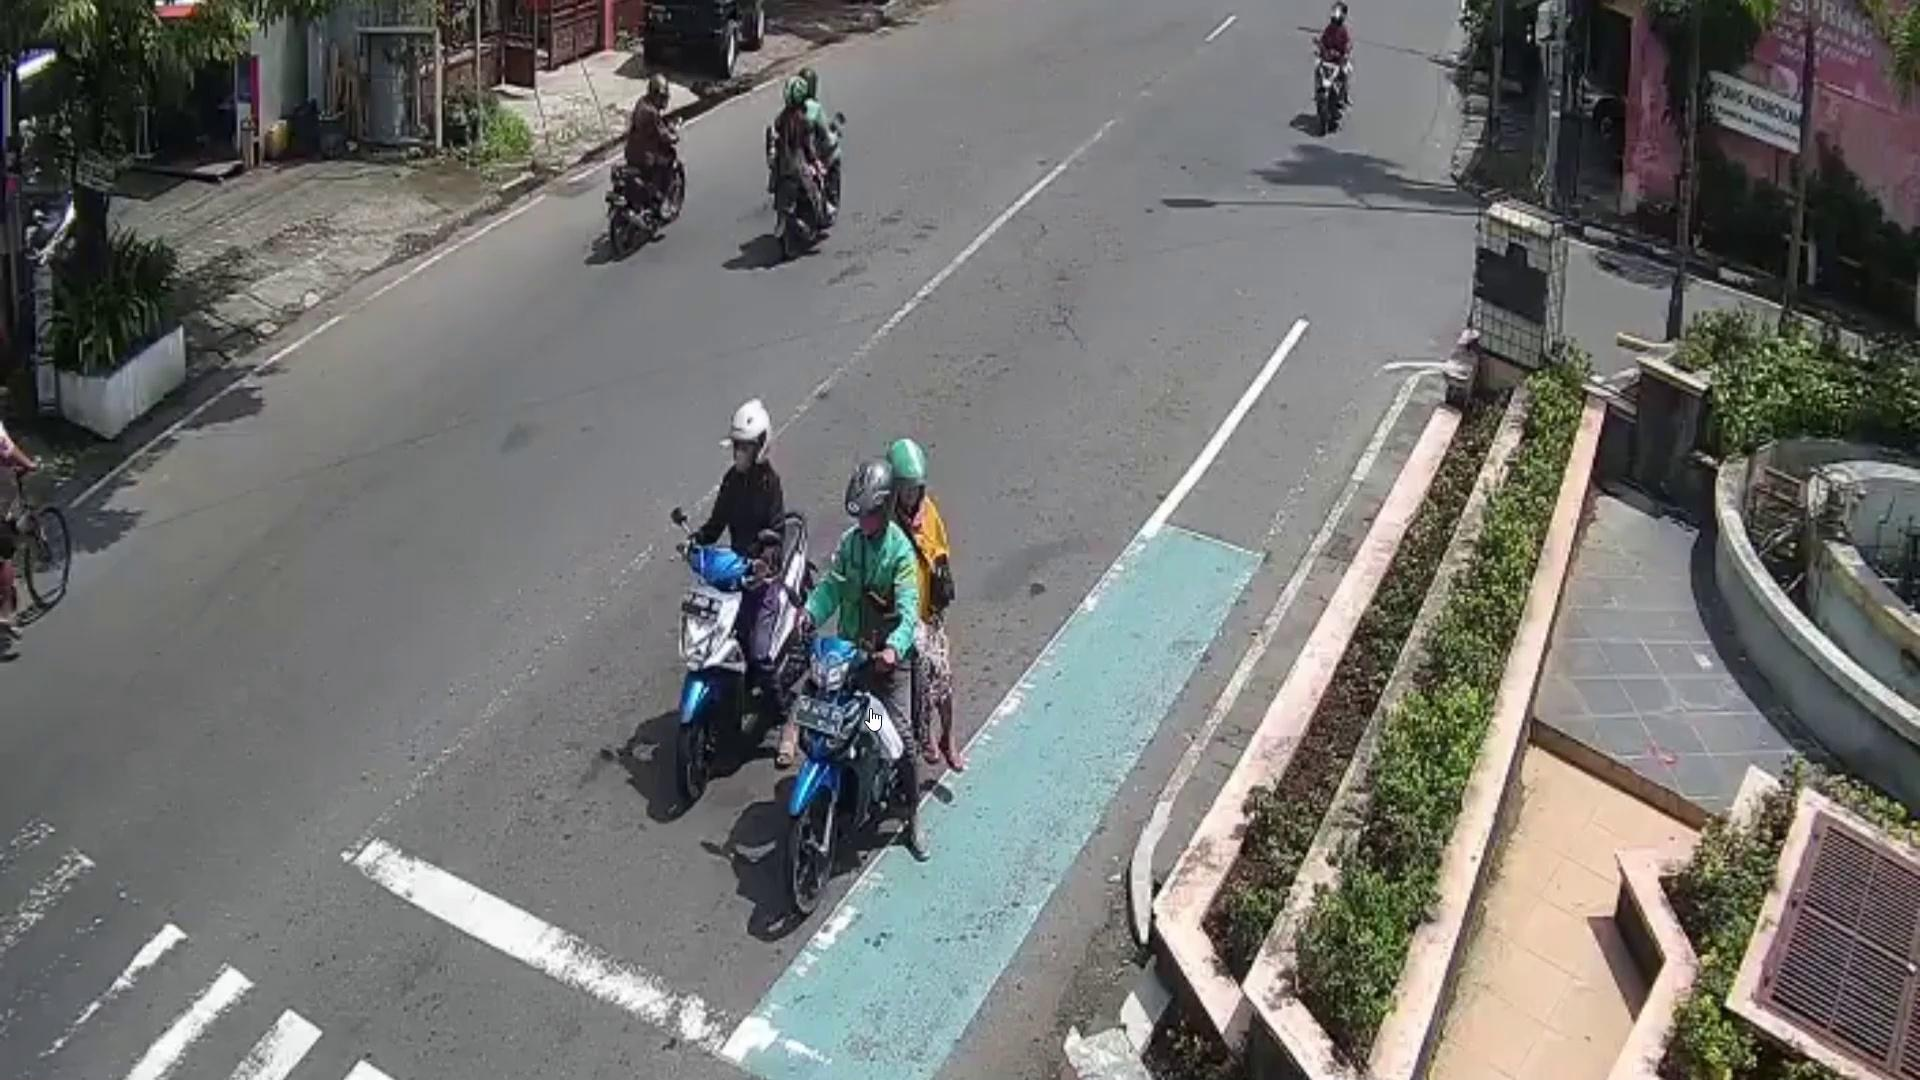motorbike: (781, 625, 935, 924), (669, 510, 820, 804), (603, 119, 700, 252), (770, 119, 845, 252), (1316, 45, 1352, 141)
